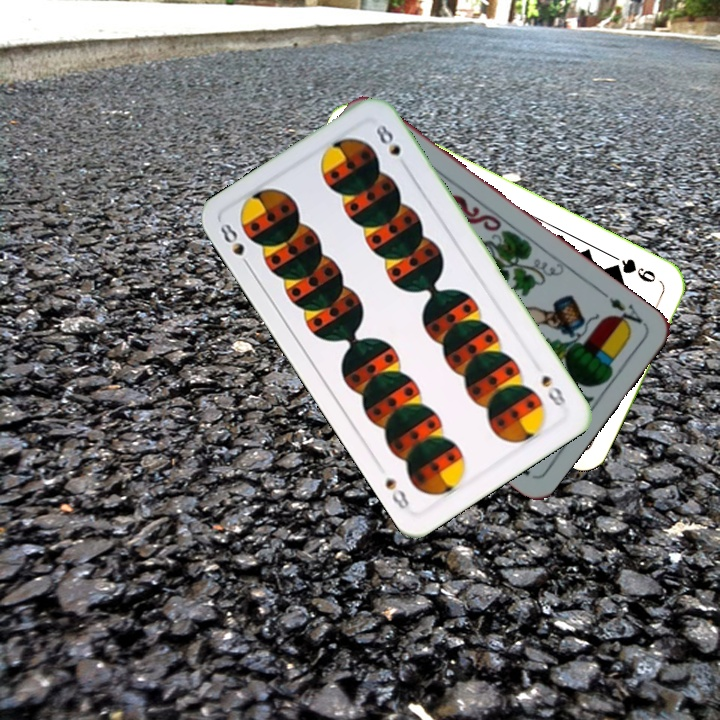EA: (604, 293, 648, 333)
G9: (607, 254, 659, 286)
S8: (216, 219, 254, 273), (537, 370, 569, 409)
